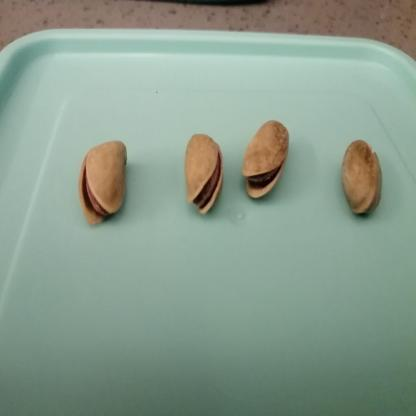pistachio: (72, 137, 136, 223), (239, 119, 293, 204), (336, 138, 390, 222), (181, 128, 228, 219)
